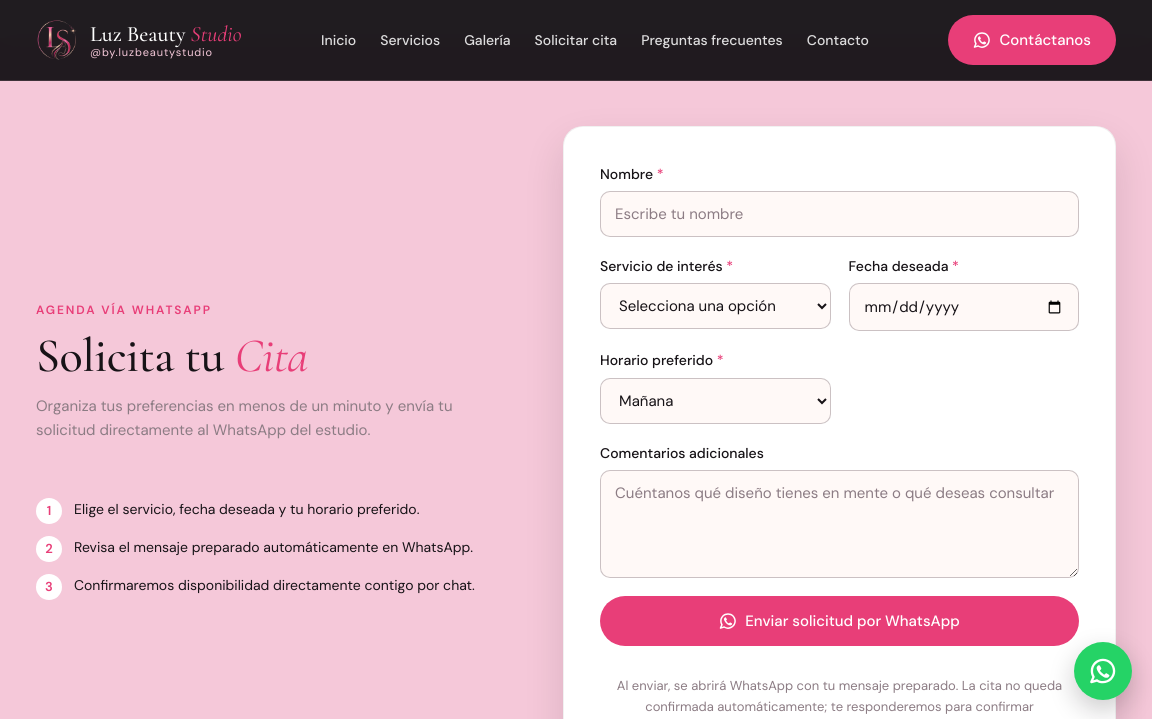
Luz Beauty Studio — Primera Etapa Visual (Placeholders y Collages) › muestra el selector condicional de hora específica y valida campos obligatorios en el formulario
Later steps or results of the test are not shown.
(page scrolled)
Expected: the field labelled "Hora específica" is not shown
Select "Elegir una hora específica" in the dropdown labelled "Horario preferido *" at (715, 401), box [600,378,830,424]
(page scrolled)
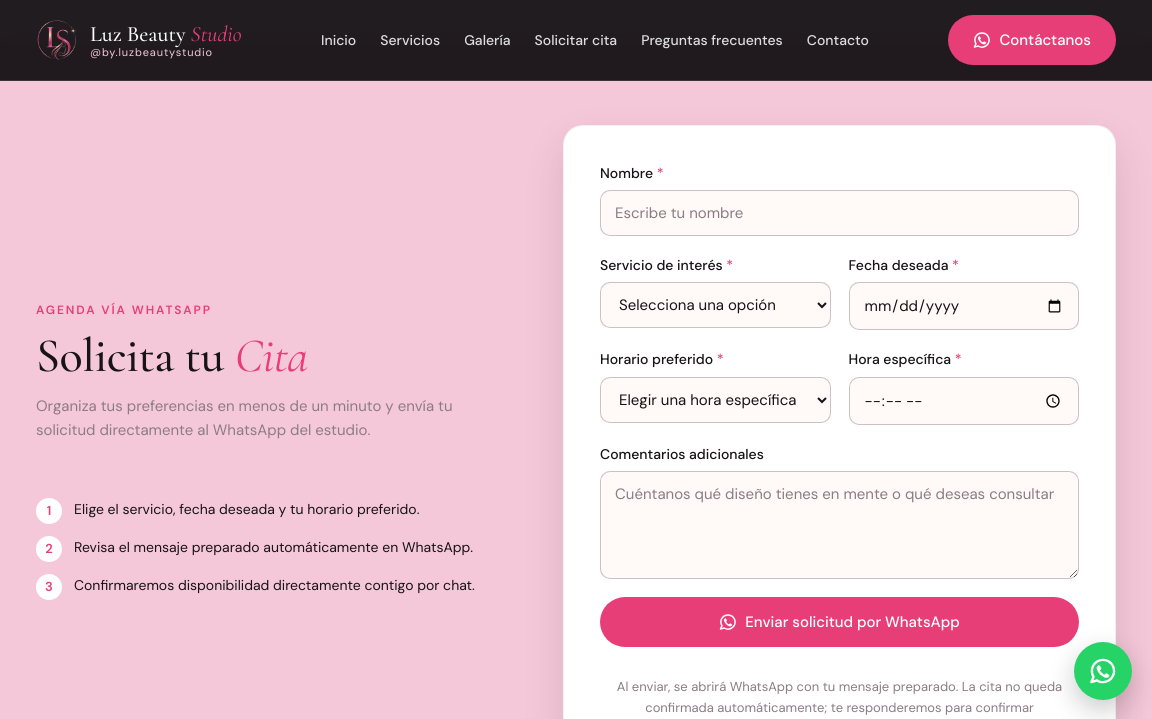
Result: the time field labelled "Hora específica *" is shown at [848,377,1079,425]
Click the button "Enviar solicitud por WhatsApp" at (840, 622), box [600,597,1079,647]
(page scrolled)
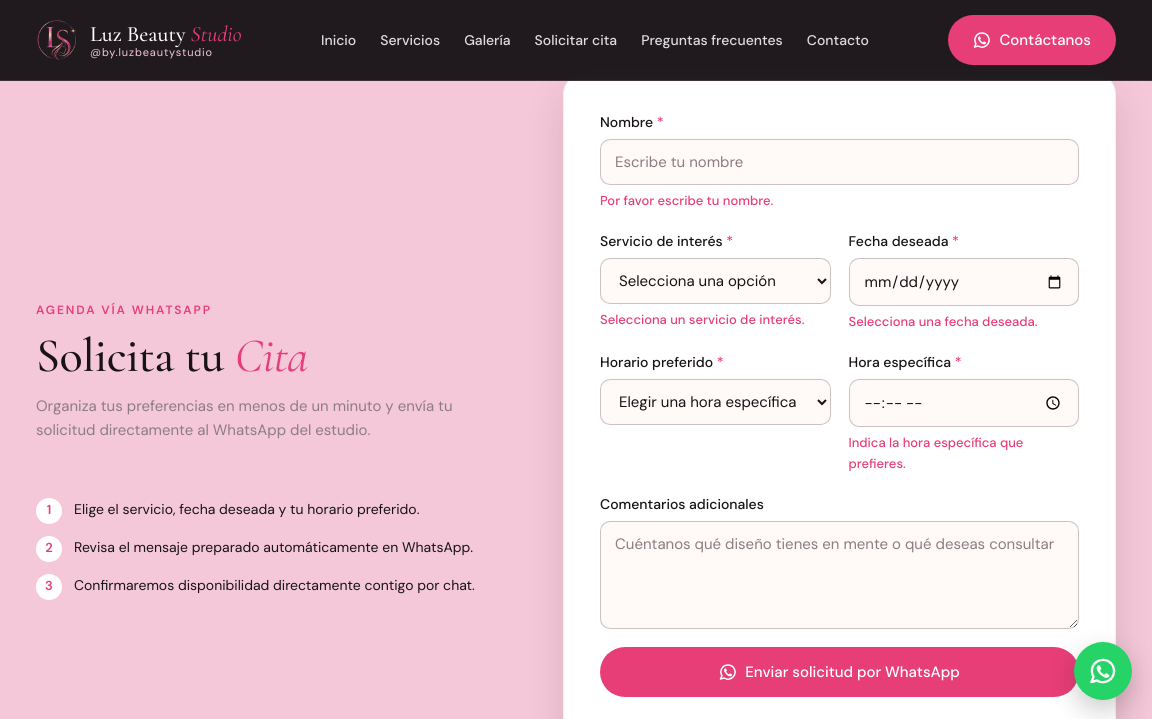
Result: the text "Por favor escribe tu nombre." is shown at [600,192,773,209]
